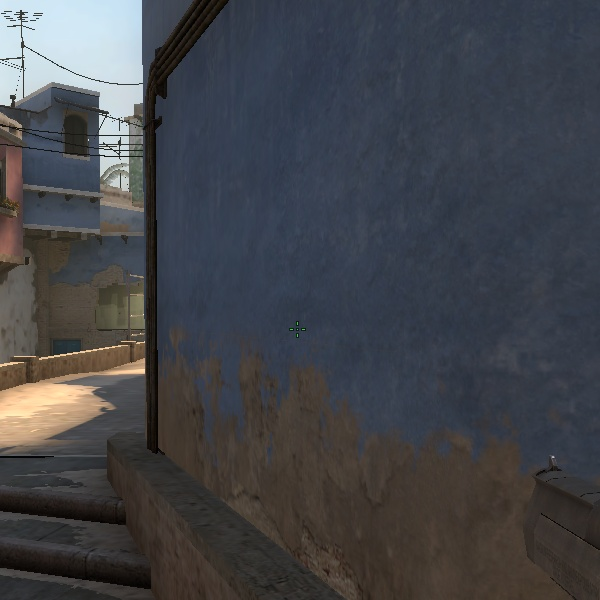t_head: (1, 102, 26, 153)
